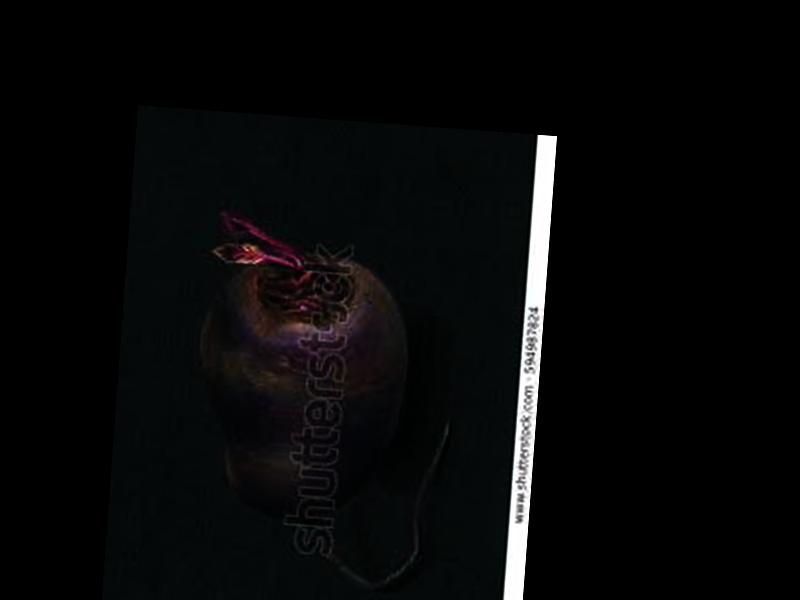Beet: (181, 201, 464, 593)
